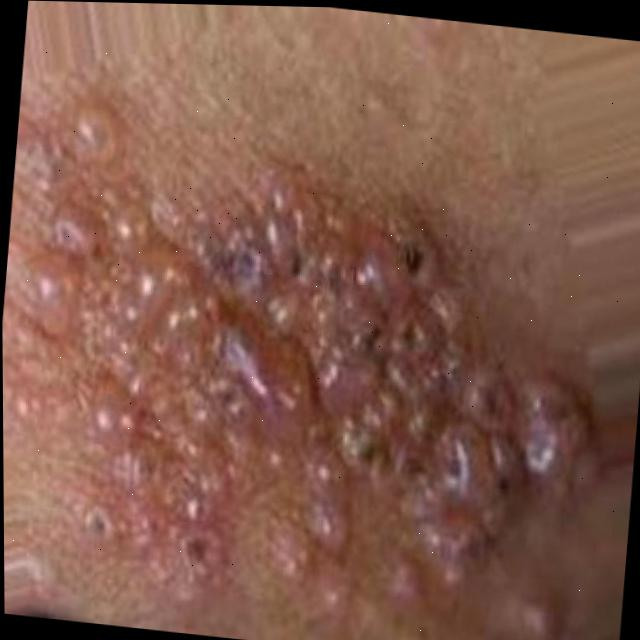Shingles: (1, 94, 607, 640)
